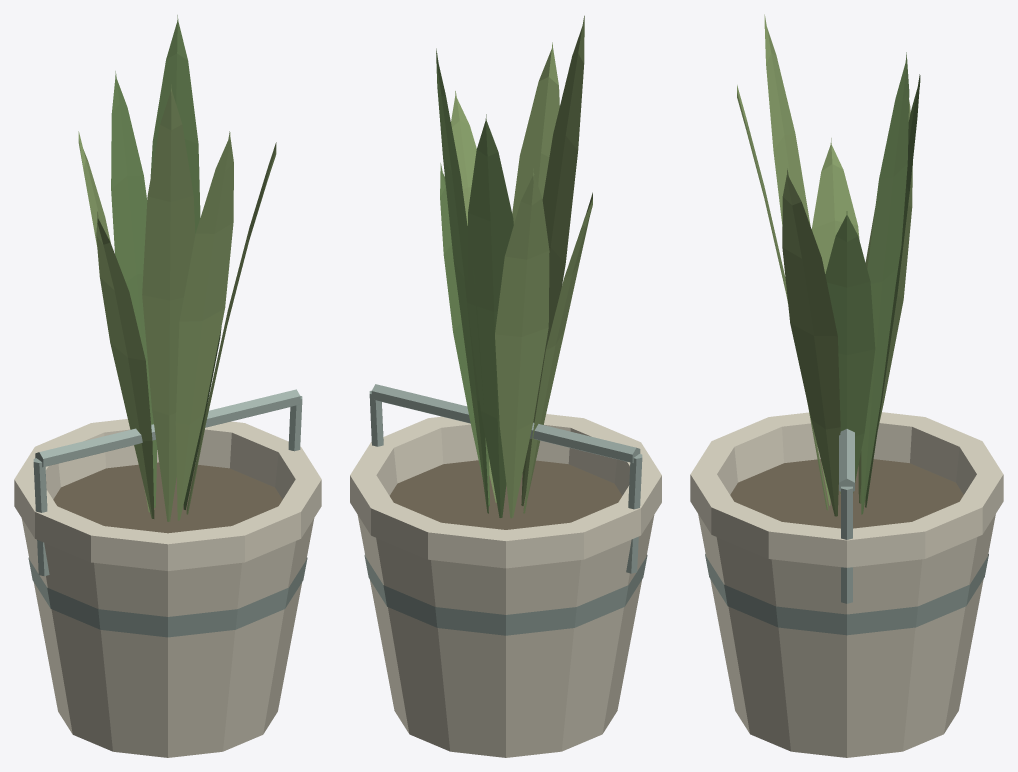
Rendered from pail-sansevieria.glb.
The picture shows the model from 3 angles, left to right: view 1: azimuth 30°, elevation 25°; view 2: azimuth 150°, elevation 25°; view 3: azimuth 270°, elevation 25°; orthographic projection.
Parts seen in each view (by area): view 1: pail-sansevieria; view 2: pail-sansevieria; view 3: pail-sansevieria.
Part boxes in pixels (x1,y1,x2,y2): pail-sansevieria: (14, 15, 321, 757); pail-sansevieria: (350, 15, 661, 757); pail-sansevieria: (690, 14, 1003, 757).
Size of the model in its own units: 0.418 by 0.99 by 0.414.
